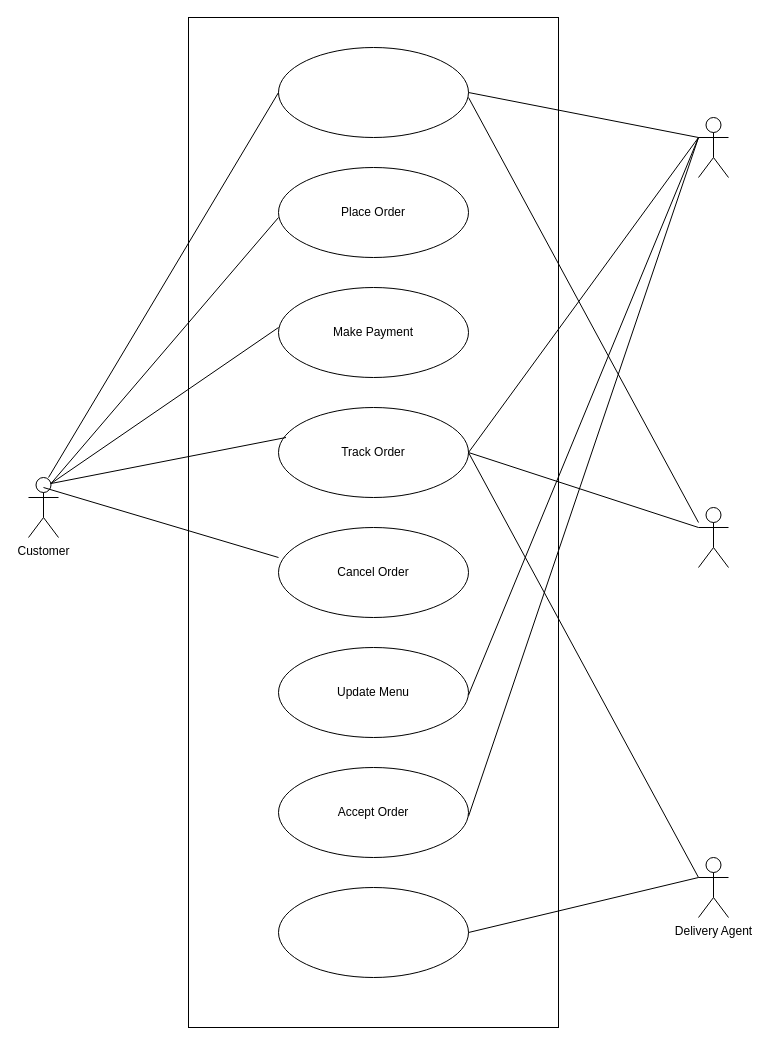
The diagram is 779 pixels wide and 1045 high, and some of its shapes have lost their labels. Here are the shapes that lost their labels. From the top down, the box of each, then its label:
(278, 46, 468, 138): Browse Restaurants
(698, 116, 728, 178): Restaurant Owner
(698, 506, 728, 568): System
(278, 886, 468, 978): Deliver Order
